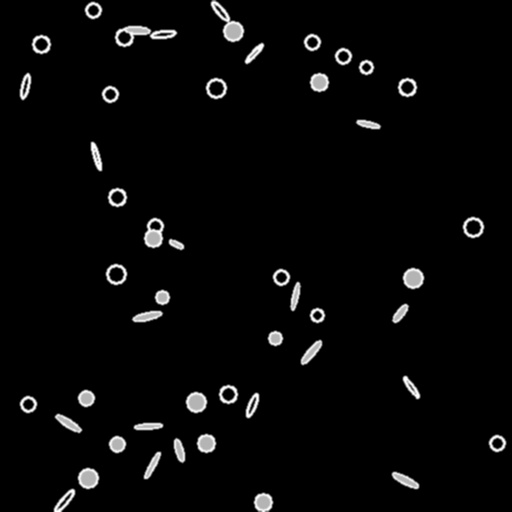pseudomonas: (299, 339, 323, 365), (52, 488, 76, 512), (55, 413, 81, 433), (391, 471, 419, 489), (143, 451, 161, 479), (210, 0, 230, 22), (402, 375, 420, 399), (244, 43, 264, 63), (245, 392, 259, 418), (391, 303, 409, 323), (90, 142, 102, 170), (133, 310, 161, 322), (19, 74, 31, 98), (173, 438, 185, 462), (290, 282, 300, 310), (150, 29, 176, 39), (357, 119, 379, 129), (168, 238, 184, 250), (125, 26, 149, 34), (135, 423, 161, 429)
synechocystis: (464, 218, 482, 236), (224, 22, 242, 40), (79, 469, 97, 487), (107, 265, 125, 283), (404, 269, 422, 287), (187, 393, 205, 411), (207, 79, 225, 97), (399, 79, 415, 95), (33, 36, 49, 52), (109, 189, 125, 205), (220, 386, 236, 402), (255, 494, 271, 510), (145, 230, 161, 246), (311, 74, 327, 90), (198, 435, 214, 451), (116, 29, 132, 45), (148, 219, 162, 233), (110, 437, 124, 451), (305, 35, 319, 49), (21, 397, 35, 411), (79, 391, 93, 405), (86, 3, 100, 17), (274, 270, 288, 284), (490, 436, 504, 450), (103, 87, 117, 101), (336, 49, 350, 63), (360, 61, 372, 73), (156, 291, 168, 303), (311, 309, 323, 321), (269, 332, 281, 344)
